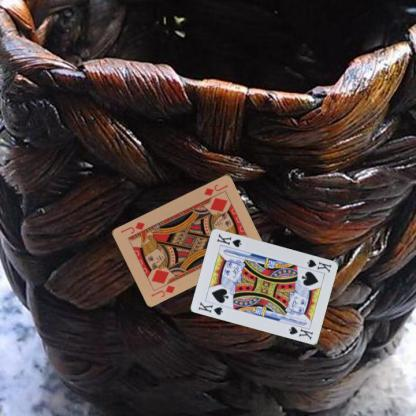Jd: (202, 181, 229, 197), (149, 283, 176, 298)
Ks: (304, 256, 333, 274), (196, 299, 224, 316)
